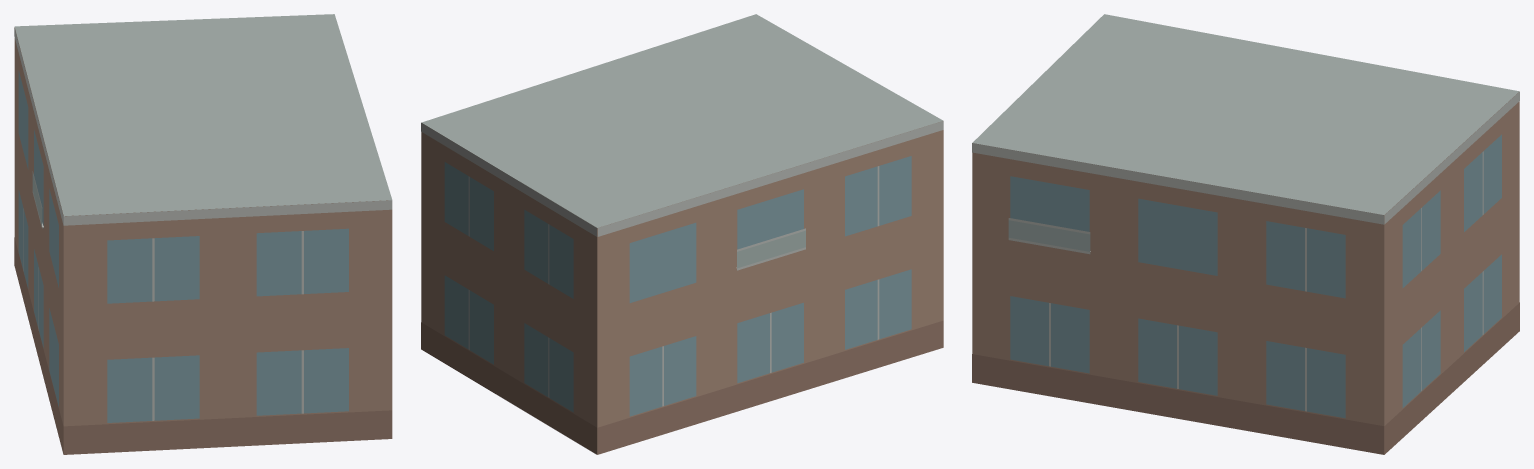
The model's file is survey-upis-32795410.glb.
The picture shows the model from 3 angles, left to right: view 1: azimuth 30°, elevation 25°; view 2: azimuth 150°, elevation 25°; view 3: azimuth 270°, elevation 25°; orthographic projection. The views are drawn at different scales.
Visible parts, largest first — view 1: survey-upis-32795410.tmp; view 2: survey-upis-32795410.tmp; view 3: survey-upis-32795410.tmp.
Boxes of the visible parts, x1,y1,x2,y2 form: survey-upis-32795410.tmp: (14, 14, 392, 454); survey-upis-32795410.tmp: (421, 14, 943, 454); survey-upis-32795410.tmp: (972, 14, 1519, 454).
Bounding box in the file's own units: 10.98 × 6.1 × 12.64.
